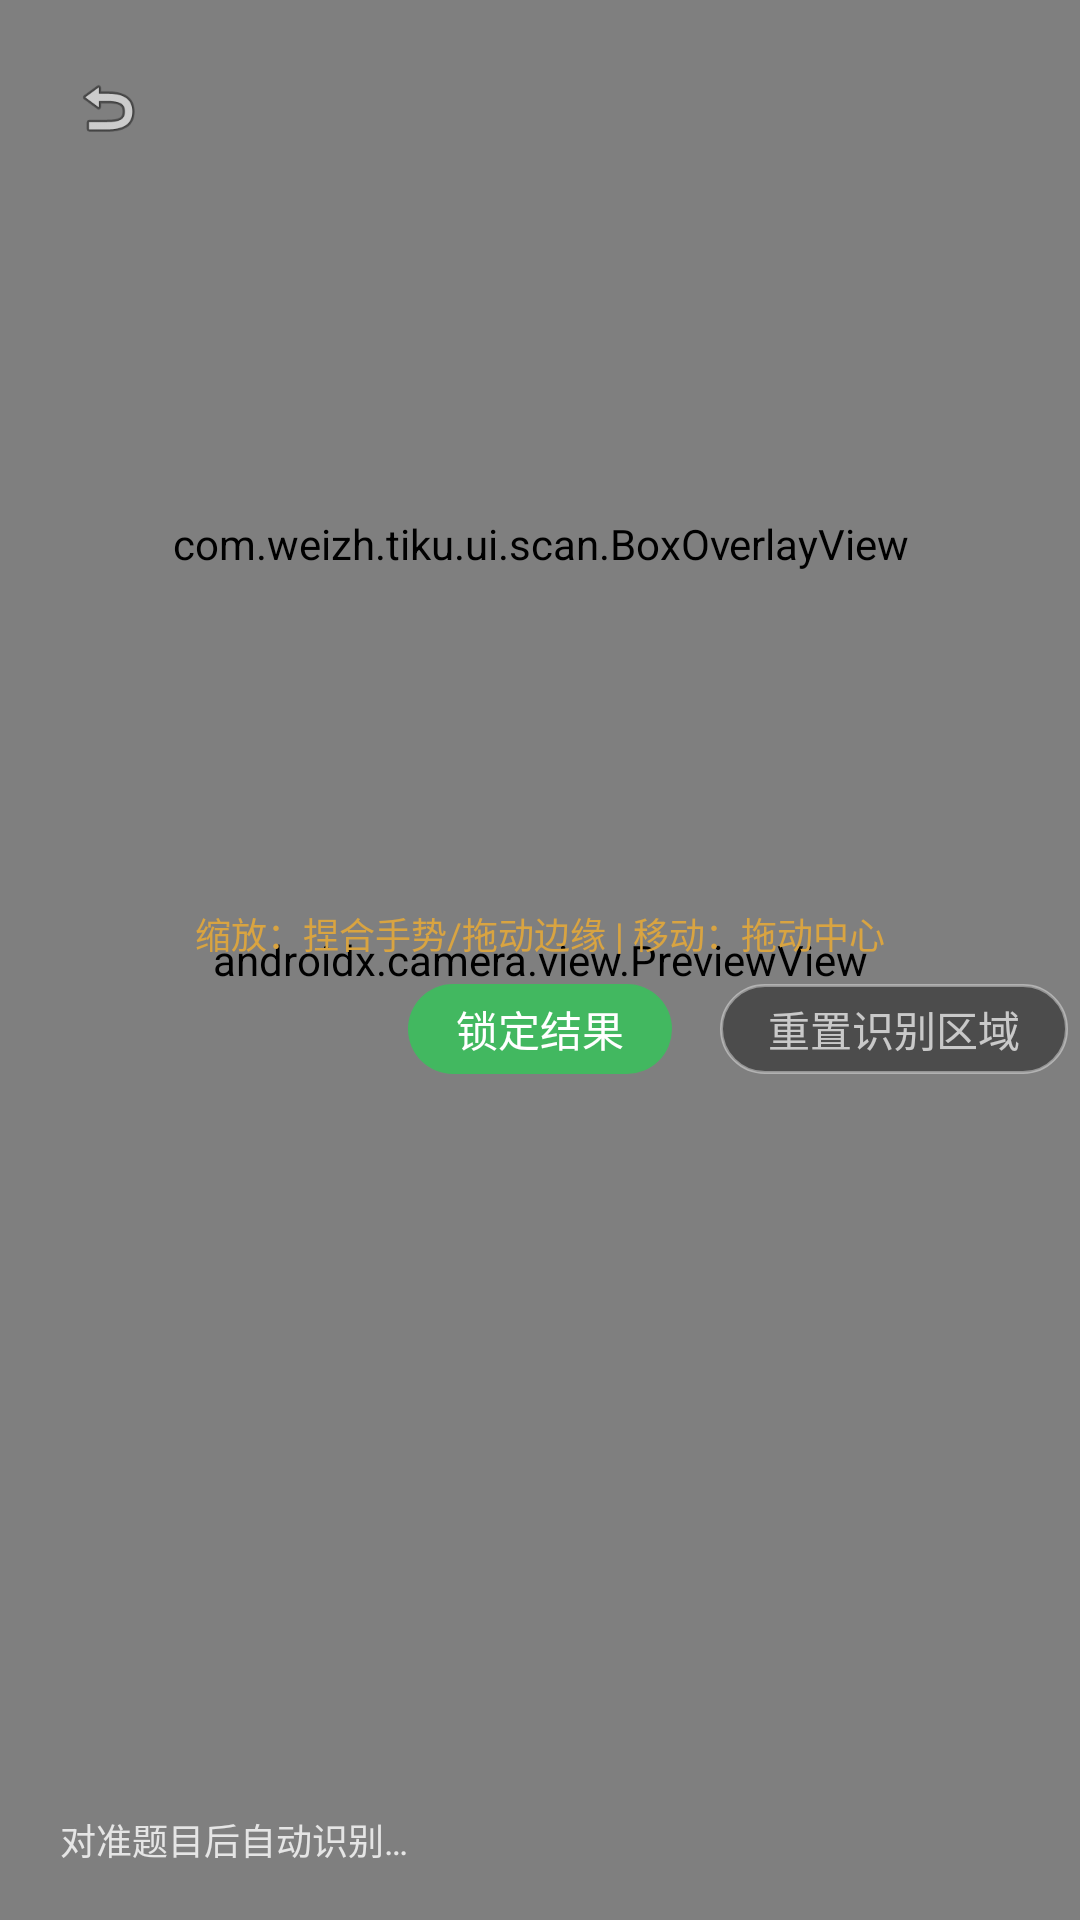

Named icons in this screenshot (1080w x 1920h) and their centers, point (x, y):
revert: point (109, 108)
